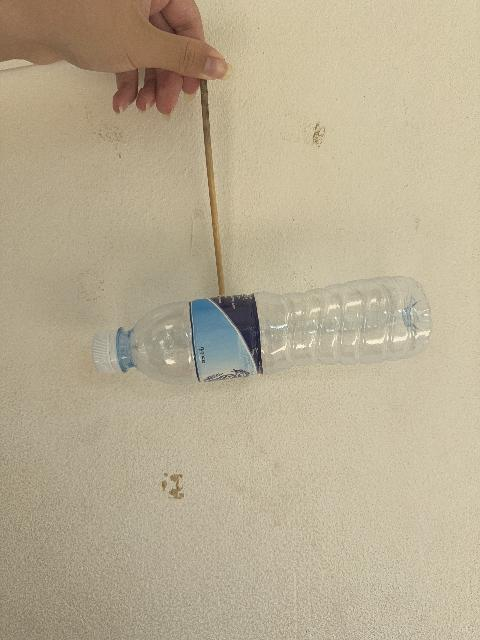bottle: (92, 277, 430, 384)
